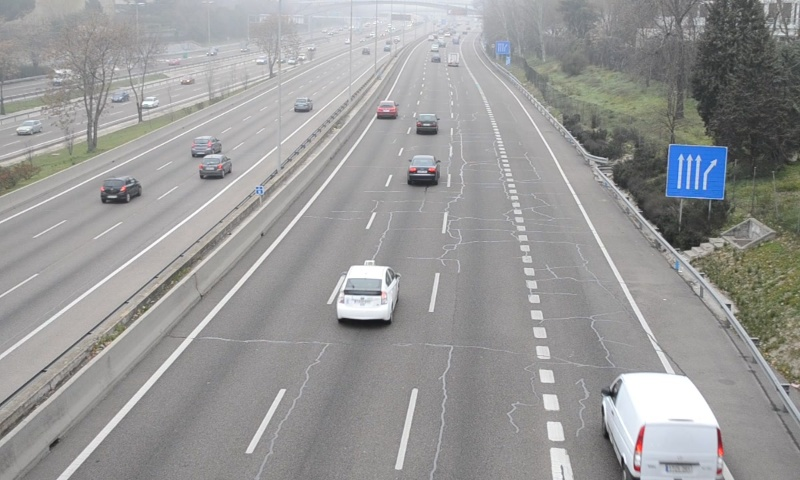car: (336, 265, 398, 320), (408, 154, 439, 184), (416, 113, 438, 134), (376, 100, 398, 119)
van: (602, 372, 723, 480)
